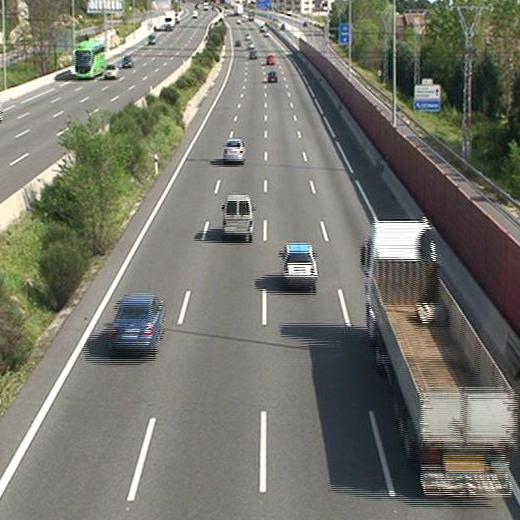car: (111, 294, 163, 350), (279, 243, 318, 288), (224, 137, 245, 161), (267, 70, 278, 82), (266, 53, 277, 64), (247, 49, 258, 58)
truck: (362, 221, 520, 495)
van: (222, 196, 252, 236)
